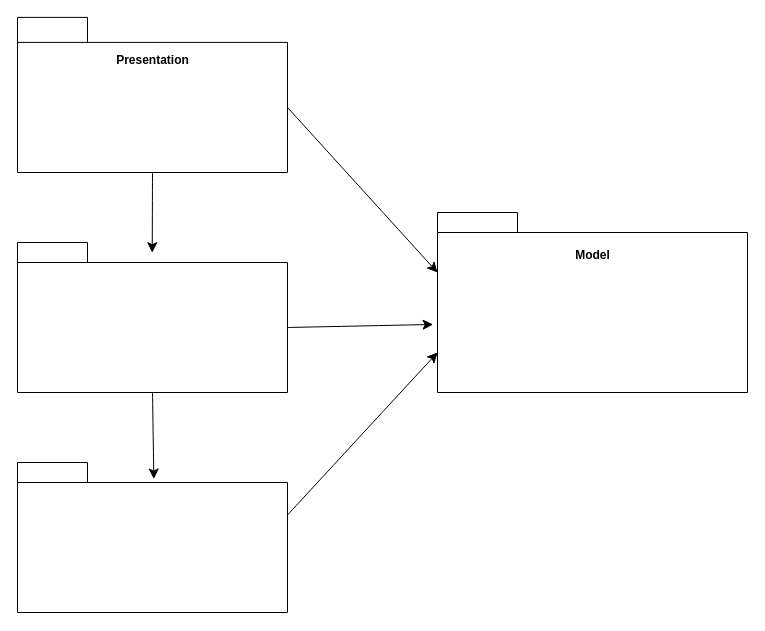
Some shapes in this 765 by 631 pixel diagram are drawn without their labels. Here are the shapes that lost their labels. From the top down, the centre of each, then its label:
pixel 152 317: BusinessLogic
pixel 152 537: Data Access
